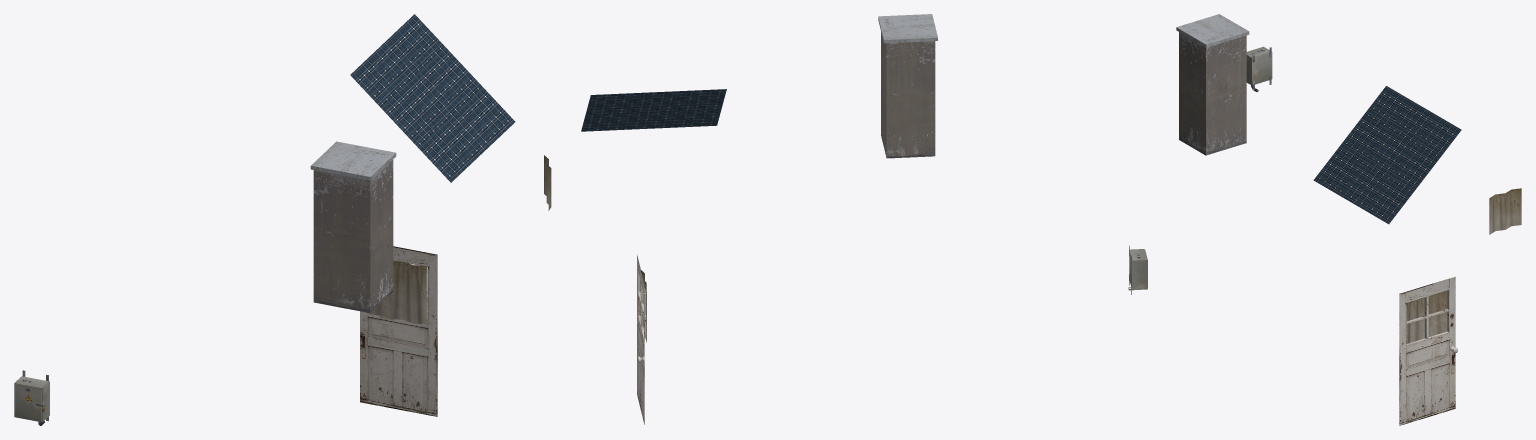
File: dae_diorama_EXTRAS.glb
3 renders of one model, left to right at view 1: azimuth 30°, elevation 25°; view 2: azimuth 150°, elevation 25°; view 3: azimuth 270°, elevation 25°, orthographic. The views are drawn at different scales.
Visible parts, largest first — view 1: sm_house_M_House_unique_0.001, sm_house_M_House_unique_0.003; view 2: sm_house_M_House_unique_0.001, sm_house_M_House_unique_0.003; view 3: sm_house_M_House_unique_0.001, sm_house_M_House_unique_0.003.
Part boxes in pixels (bbox=[...]): sm_house_M_House_unique_0.001: bbox=[14, 14, 515, 425]; sm_house_M_House_unique_0.003: bbox=[360, 246, 437, 416]; sm_house_M_House_unique_0.001: bbox=[544, 14, 1147, 294]; sm_house_M_House_unique_0.003: bbox=[637, 255, 646, 424]; sm_house_M_House_unique_0.001: bbox=[1176, 14, 1521, 234]; sm_house_M_House_unique_0.003: bbox=[1399, 276, 1457, 425].
Bounding box in the file's own units: 7.46 × 4.81 × 4.74.
Materials: 2 (2 with a texture image).
